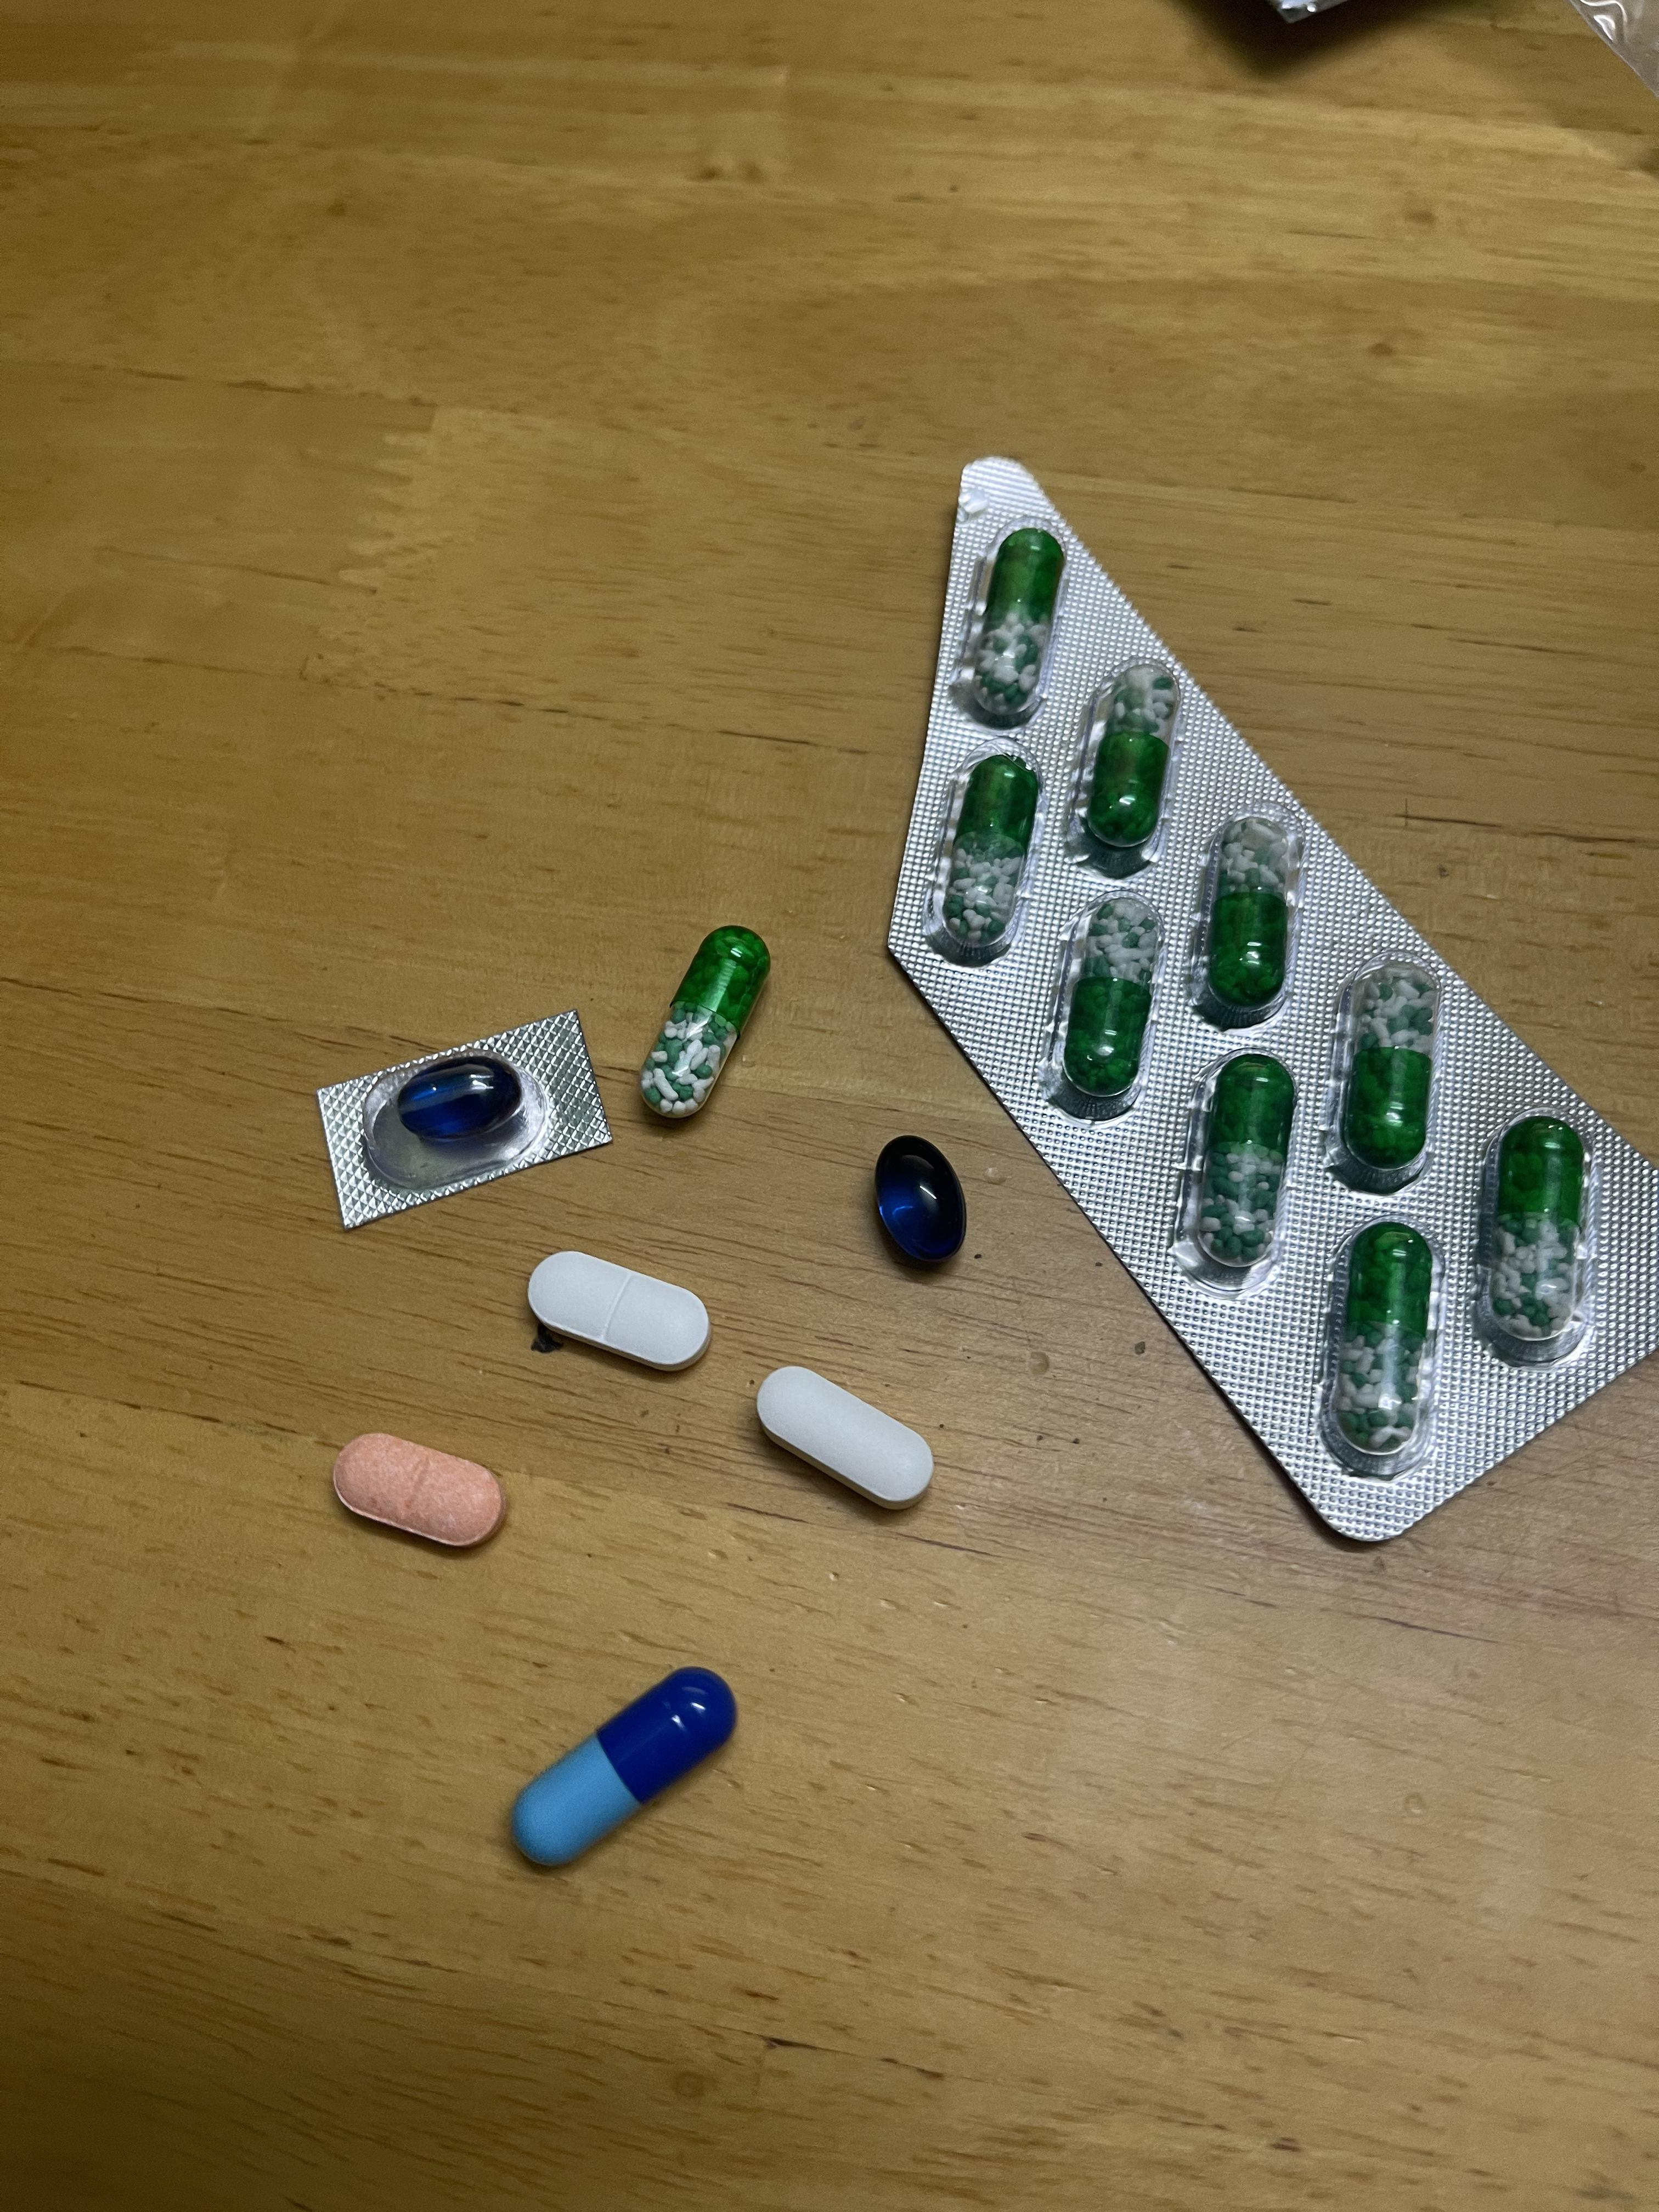Lincomyxin_500mg: (873, 1134, 969, 1266), (394, 1059, 525, 1146)
Loratadine_10mg: (333, 1433, 505, 1548)
Paracetamol_350mg: (533, 1254, 706, 1371)
Paracetamol_500mg: (758, 1366, 932, 1508)
Paracetamol_650mg: (1180, 1052, 1297, 1278), (643, 930, 765, 1120), (1337, 1226, 1432, 1453), (931, 758, 1040, 954), (1337, 961, 1438, 1172), (1194, 813, 1298, 1015), (1053, 902, 1157, 1104), (1072, 664, 1180, 859), (1490, 1122, 1584, 1339), (962, 524, 1065, 721)
pill: (518, 1669, 728, 1865)
